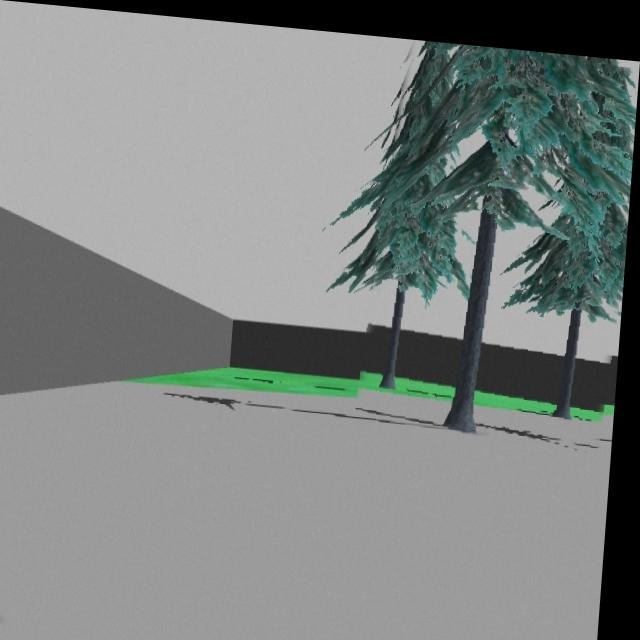tree: (391, 34, 637, 425)
